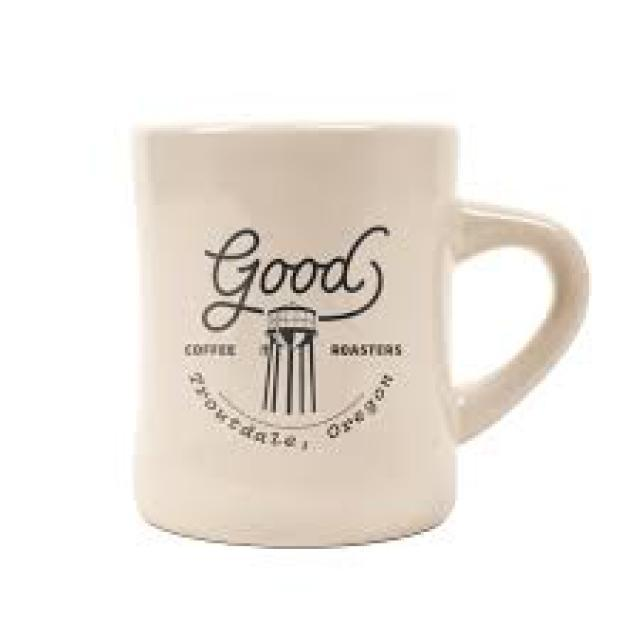taza: (126, 119, 590, 551)
